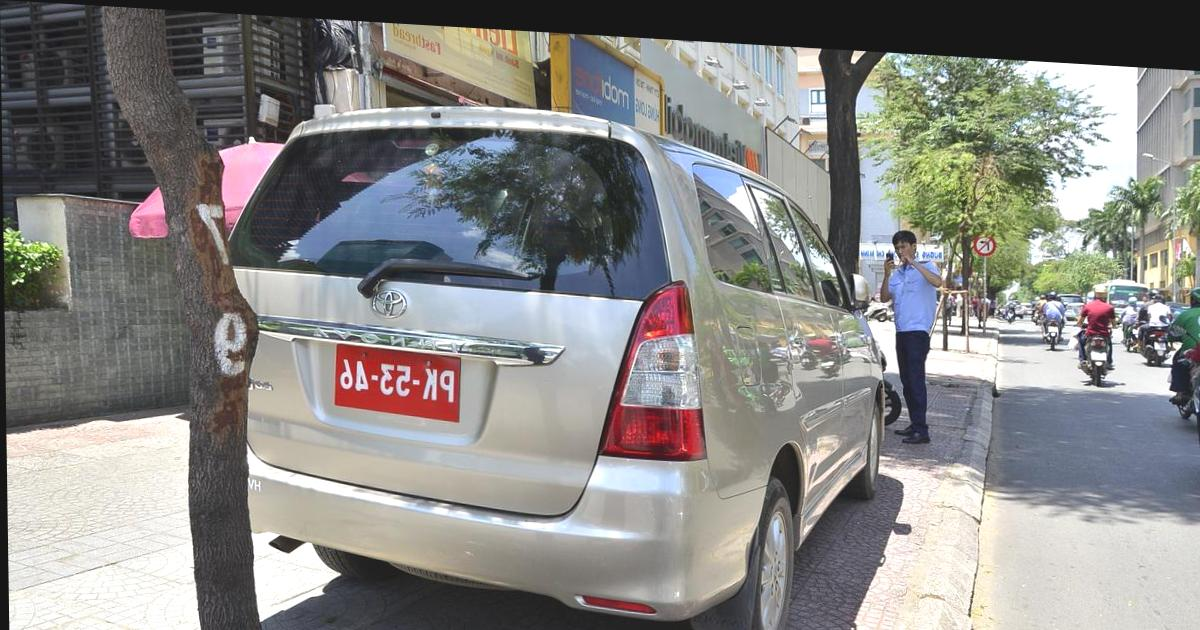License_Plate: (331, 337, 465, 426)
